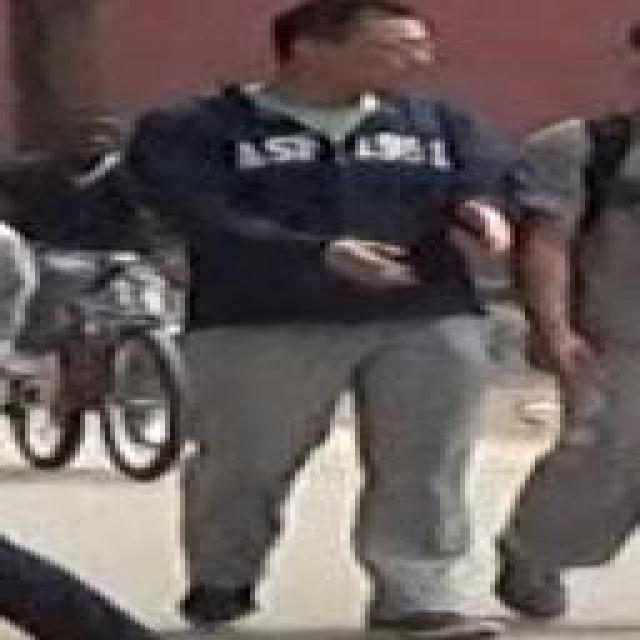adult: (115, 7, 517, 640), (508, 44, 640, 632), (10, 115, 174, 353)
